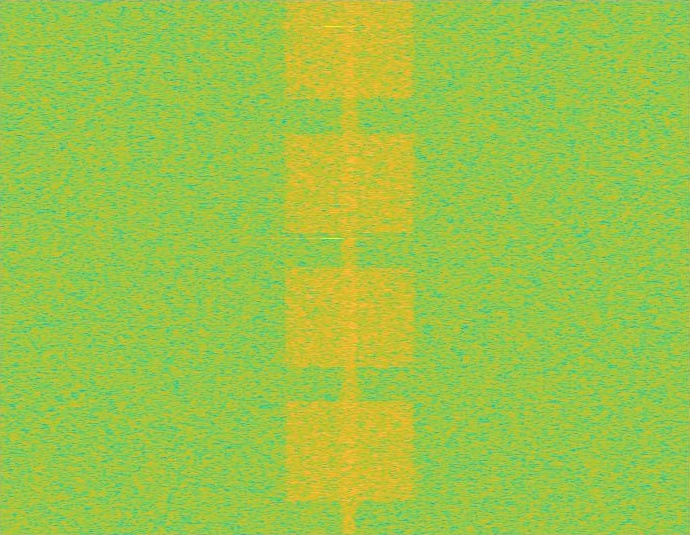5G: (281, 0, 419, 534)
DSSS: (340, 0, 359, 534)
Radar: (326, 0, 340, 534)
